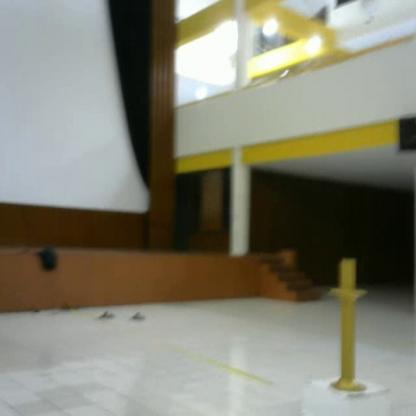pole: (328, 254, 372, 396)
